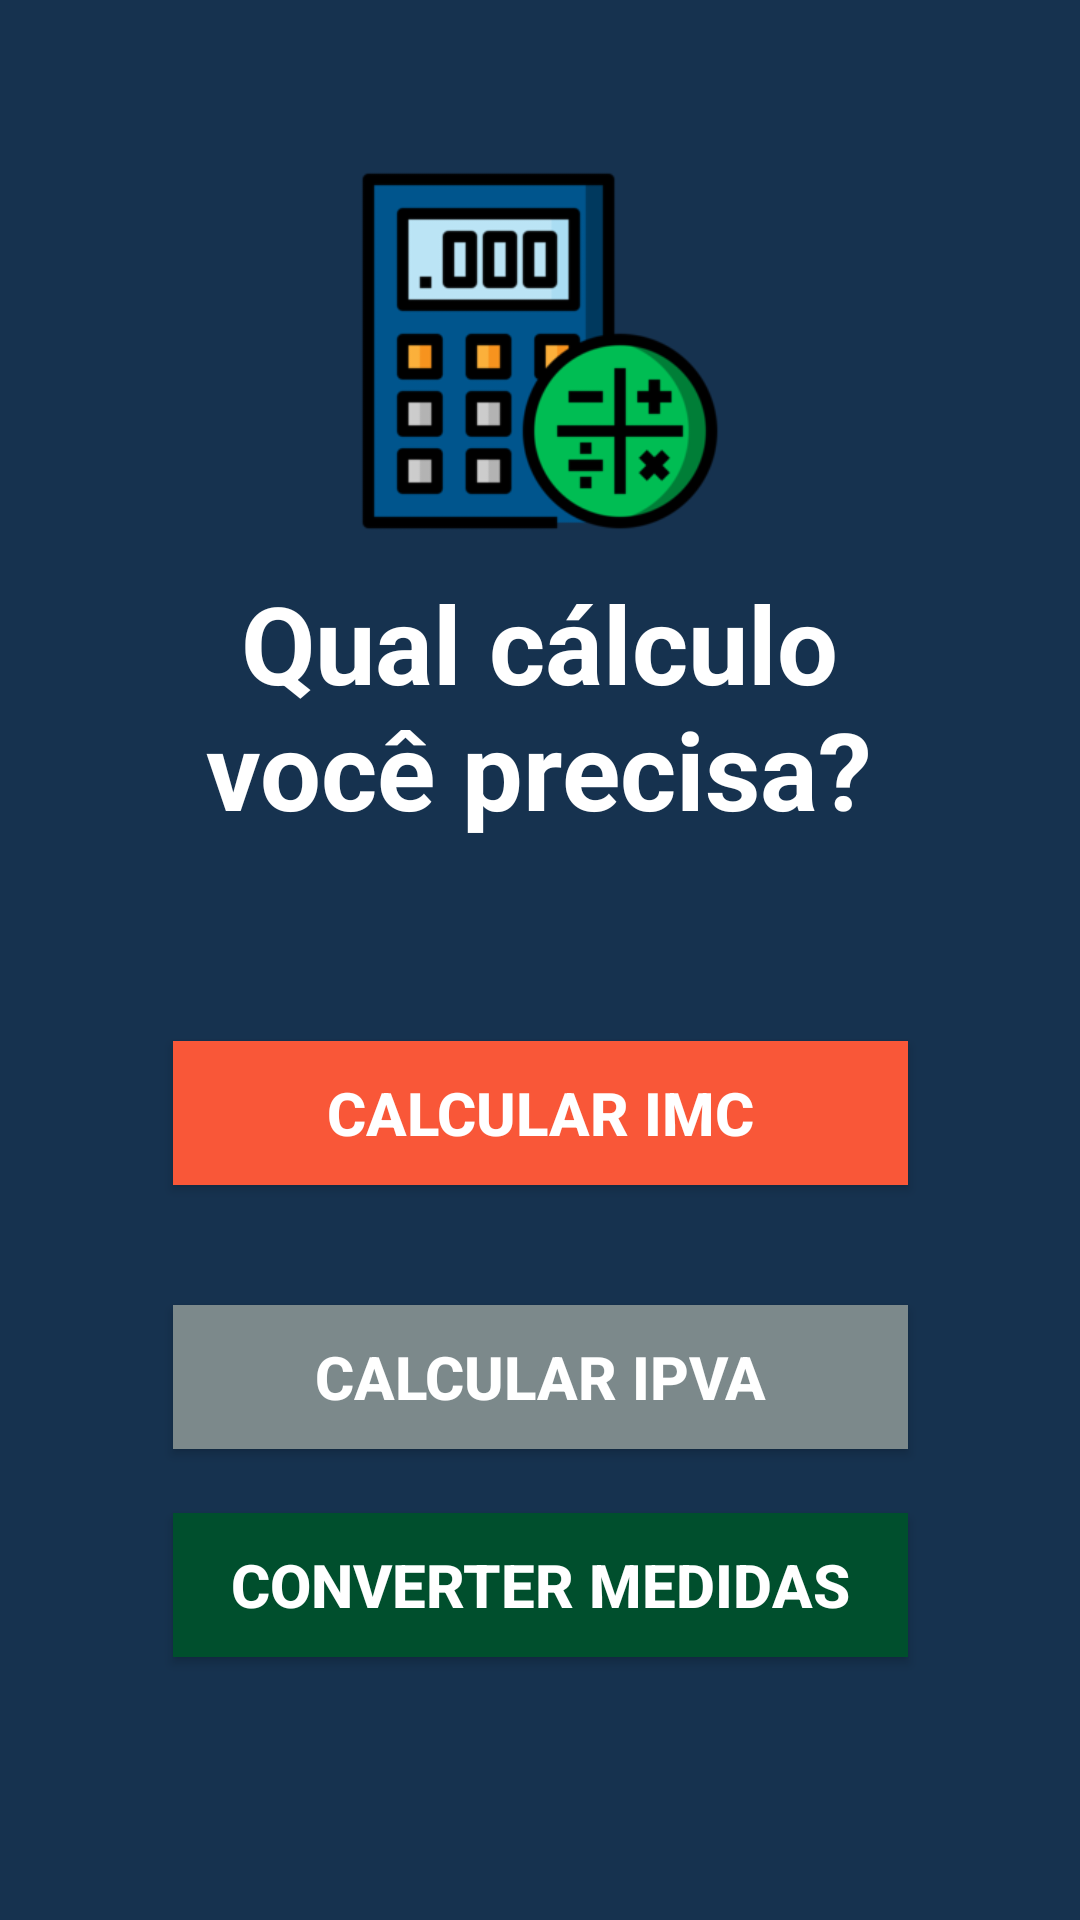

Icon click points for this 1080w x 1920h phone screenshot, format [x,y]:
calculator: [540,351]
